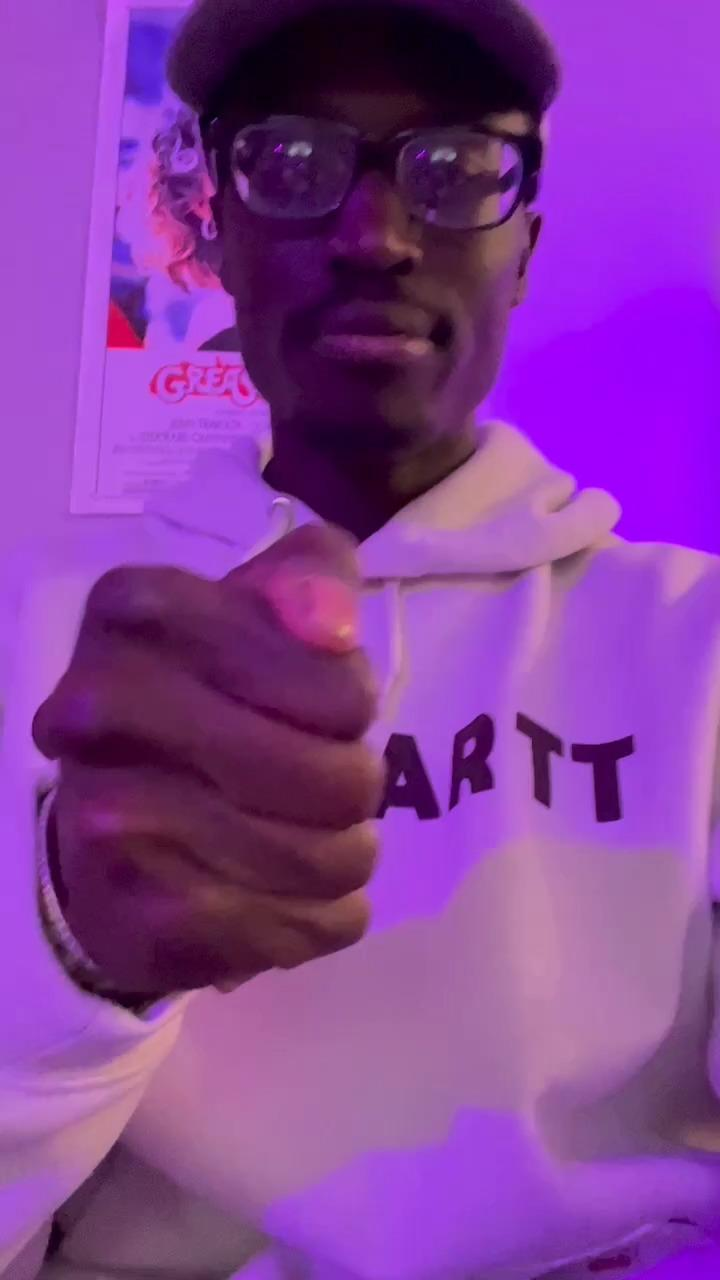Rock: (28, 520, 388, 996)
